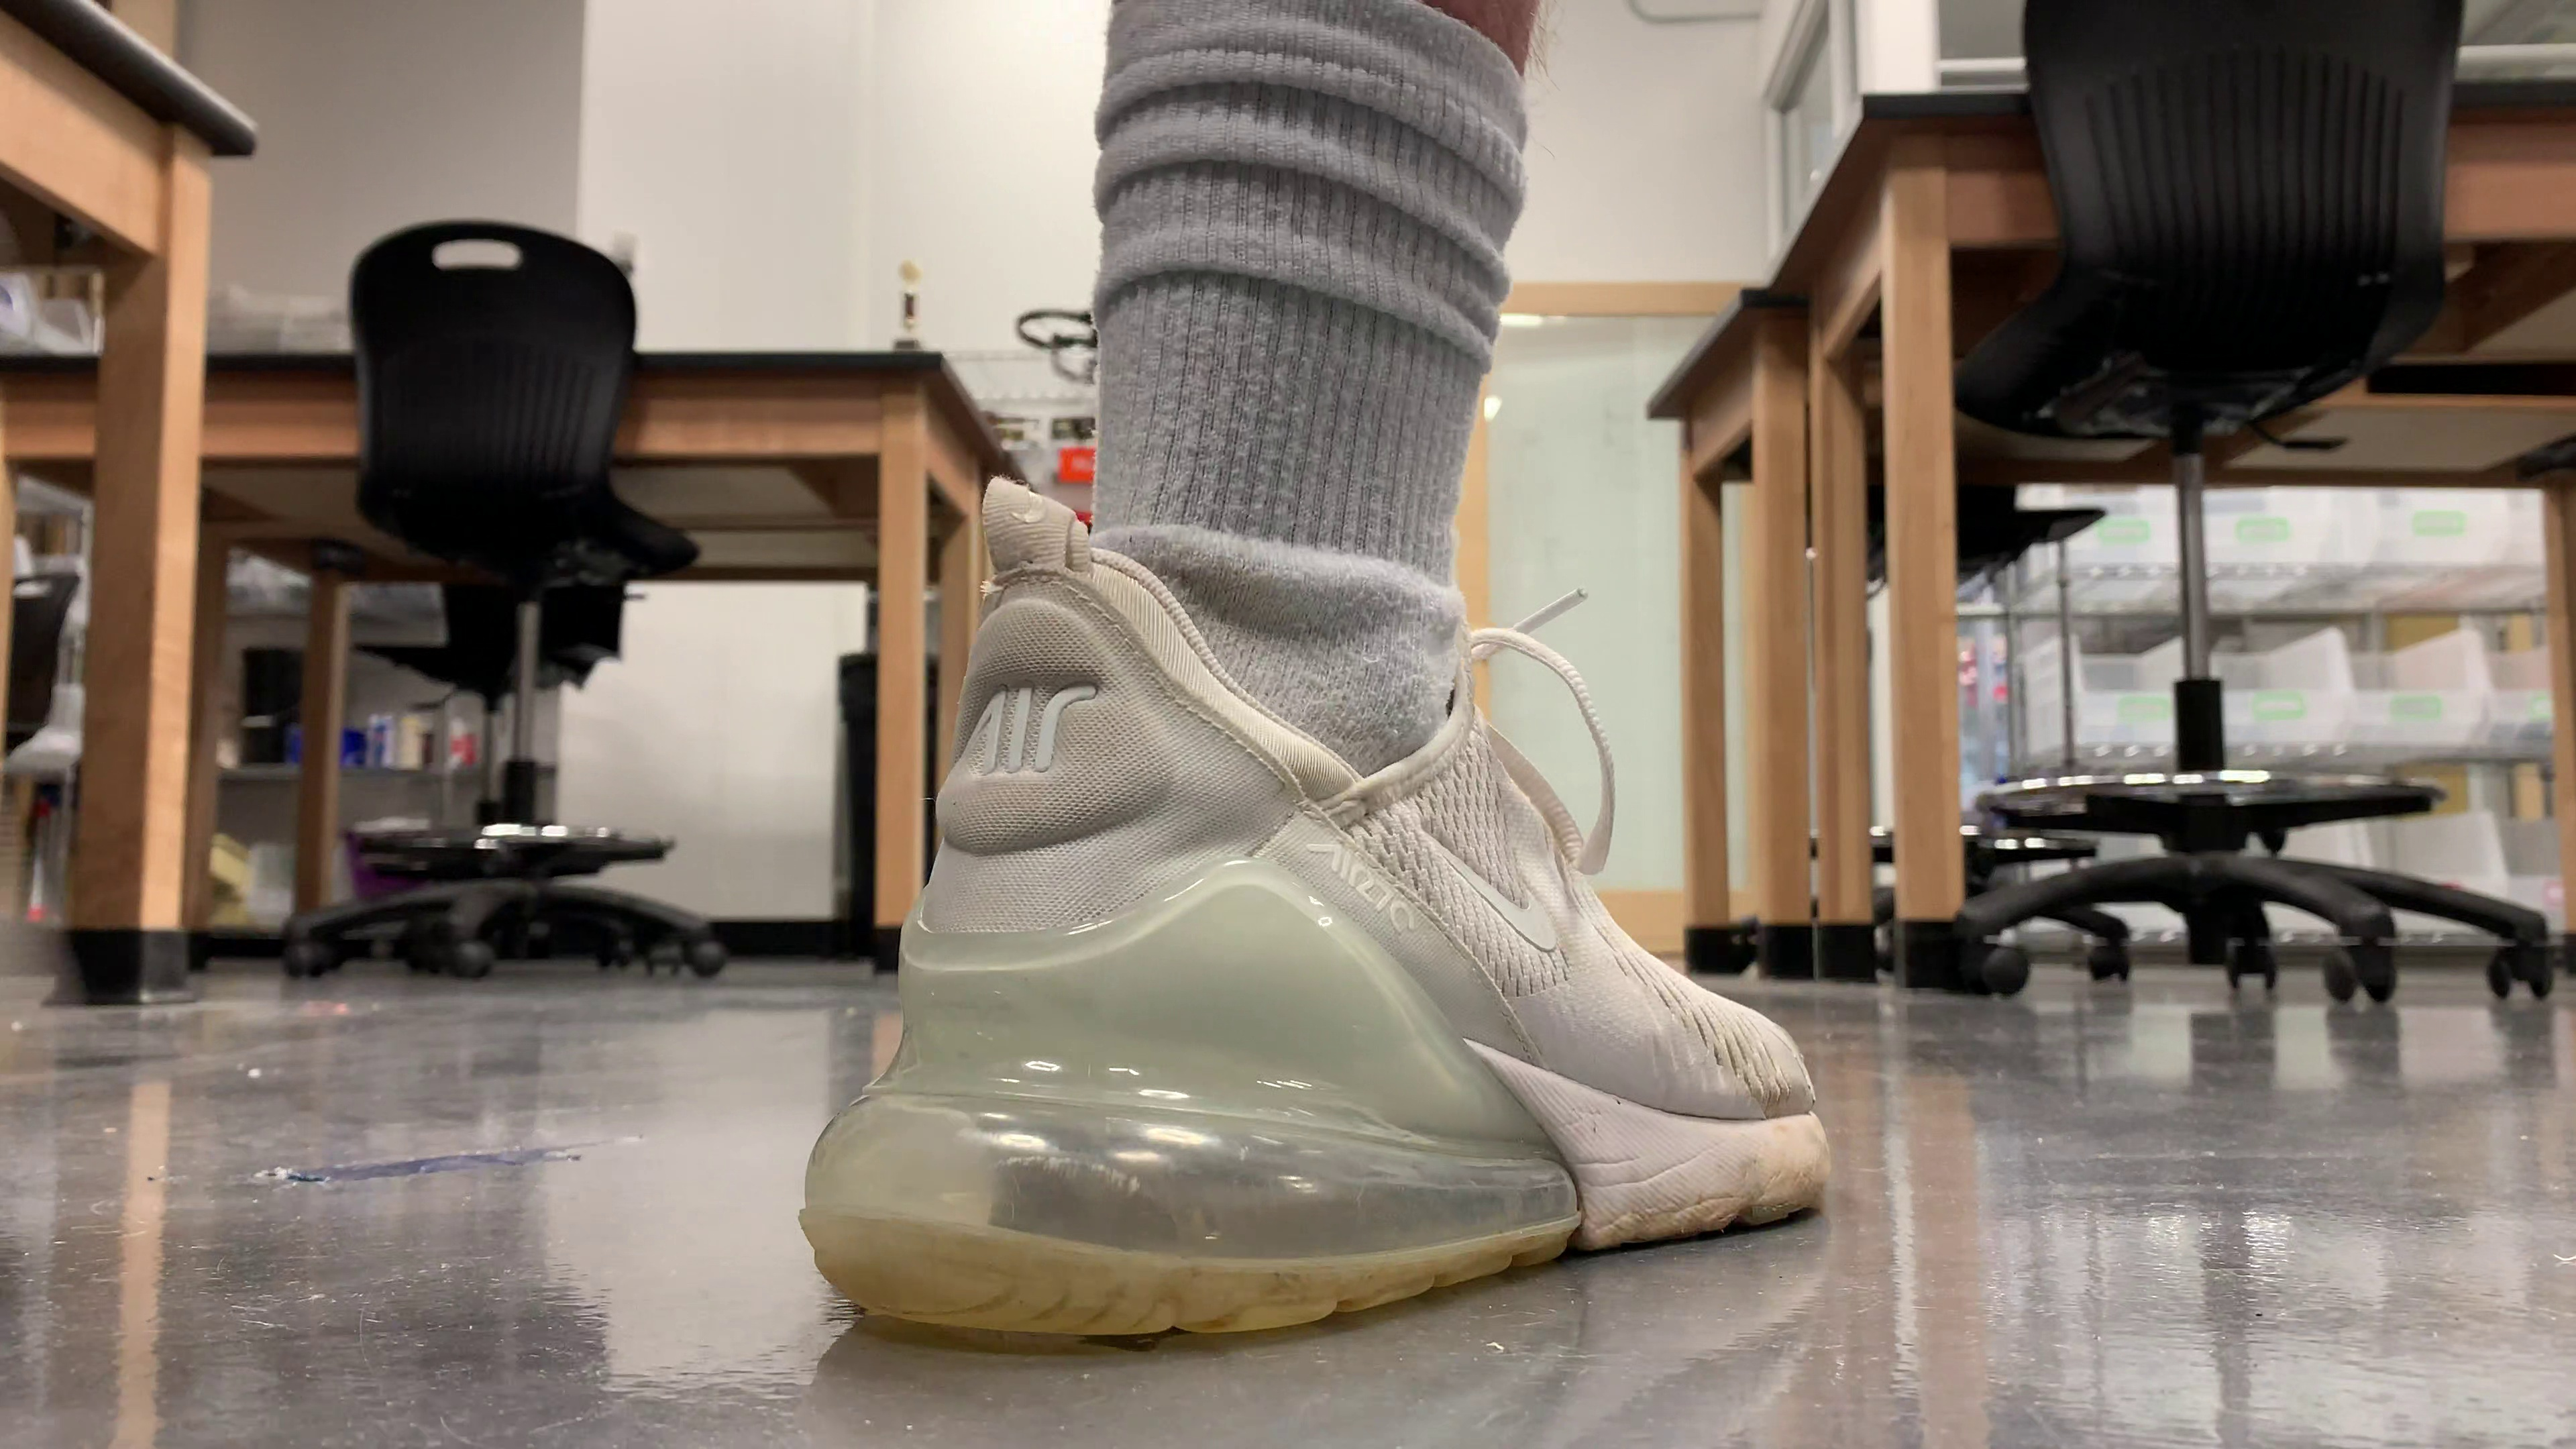shoe: (796, 552, 1826, 1336)
